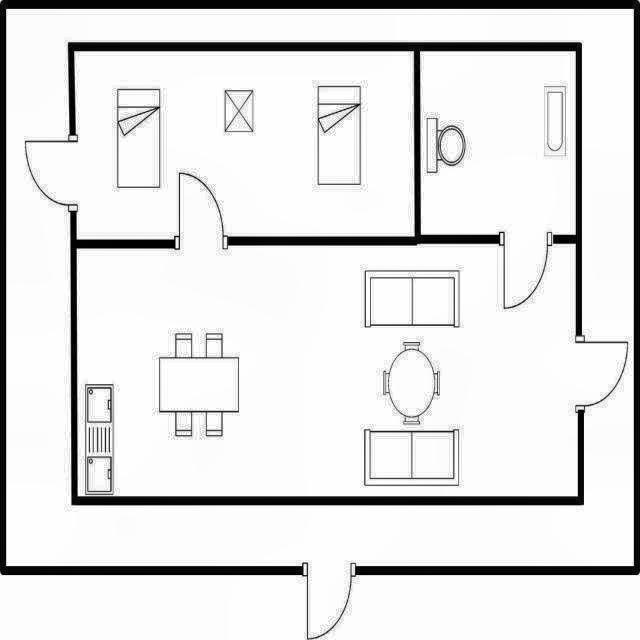room: (3, 5, 633, 567), (76, 244, 578, 501), (74, 49, 415, 239), (420, 51, 575, 236)
